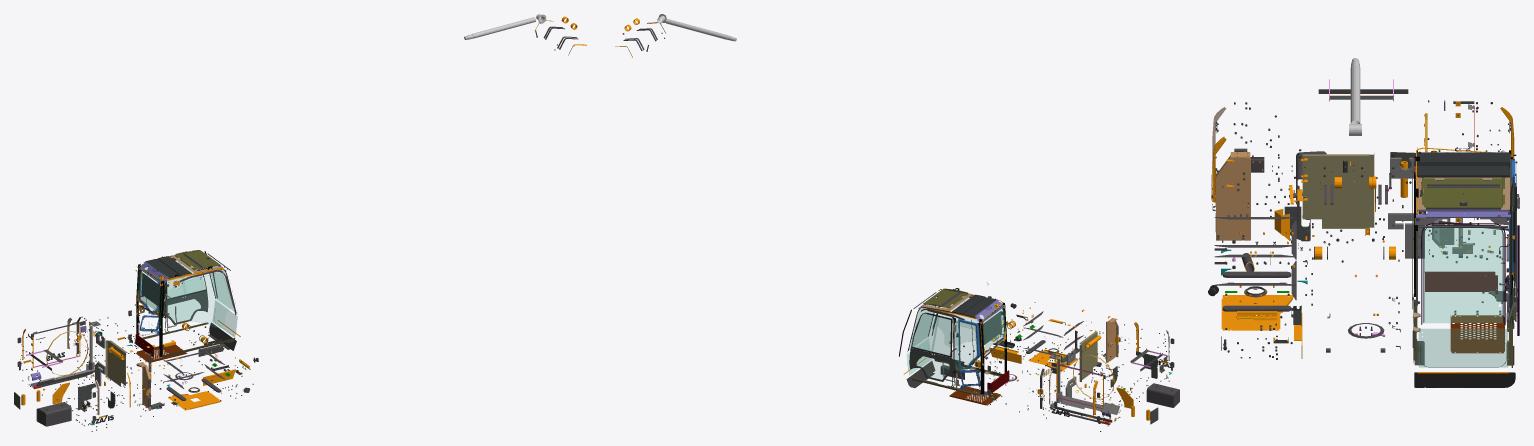
Rendered from modelDraco.glb.
3 renders of one model, left to right at view 1: azimuth 30°, elevation 25°; view 2: azimuth 150°, elevation 25°; view 3: azimuth 270°, elevation 25°, orthographic. The views are drawn at different scales.
Bounding box in the file's own units: 11.95 × 5.96 × 3.
